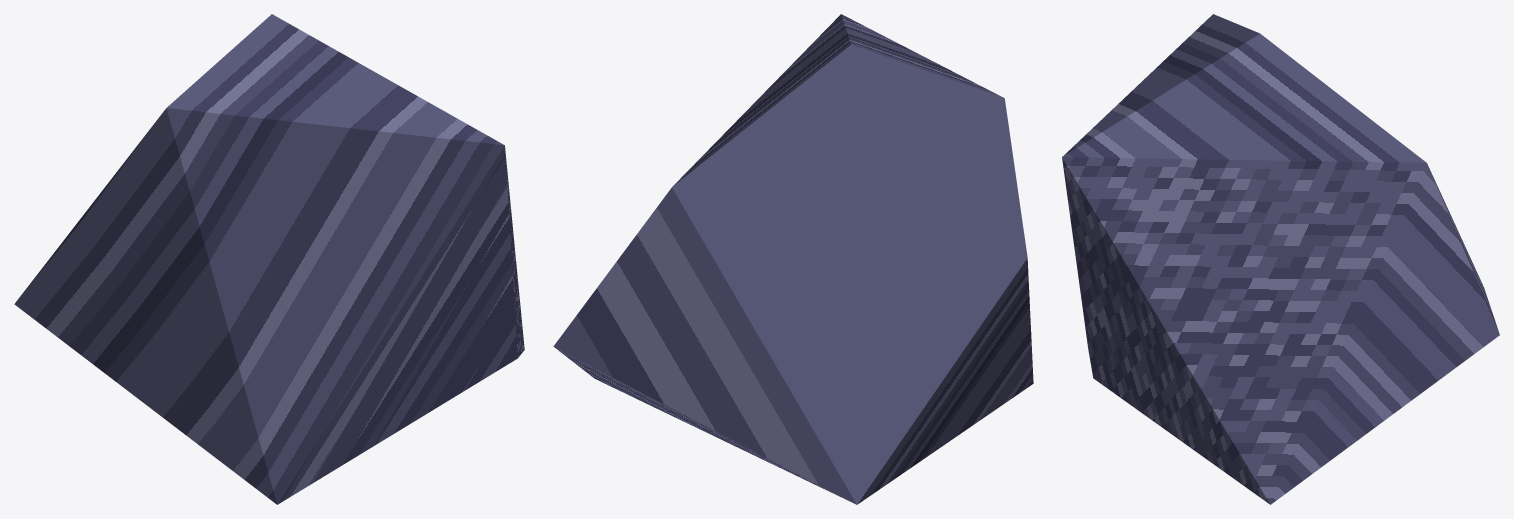
The picture shows the model from 3 angles, left to right: view 1: azimuth 30°, elevation 25°; view 2: azimuth 150°, elevation 25°; view 3: azimuth 270°, elevation 25°; orthographic projection. The views are drawn at different scales.
Visible parts, largest first — view 1: ss3d_32_lil_bould; view 2: ss3d_32_lil_bould; view 3: ss3d_32_lil_bould.
Boxes of the visible parts, x1,y1,x2,y2 form: ss3d_32_lil_bould: (14, 14, 524, 504); ss3d_32_lil_bould: (553, 14, 1033, 504); ss3d_32_lil_bould: (1062, 14, 1499, 504).
Size of the model in its own units: 0.3094 by 0.2672 by 0.2953.
Materials: 1 (1 with a texture image).
